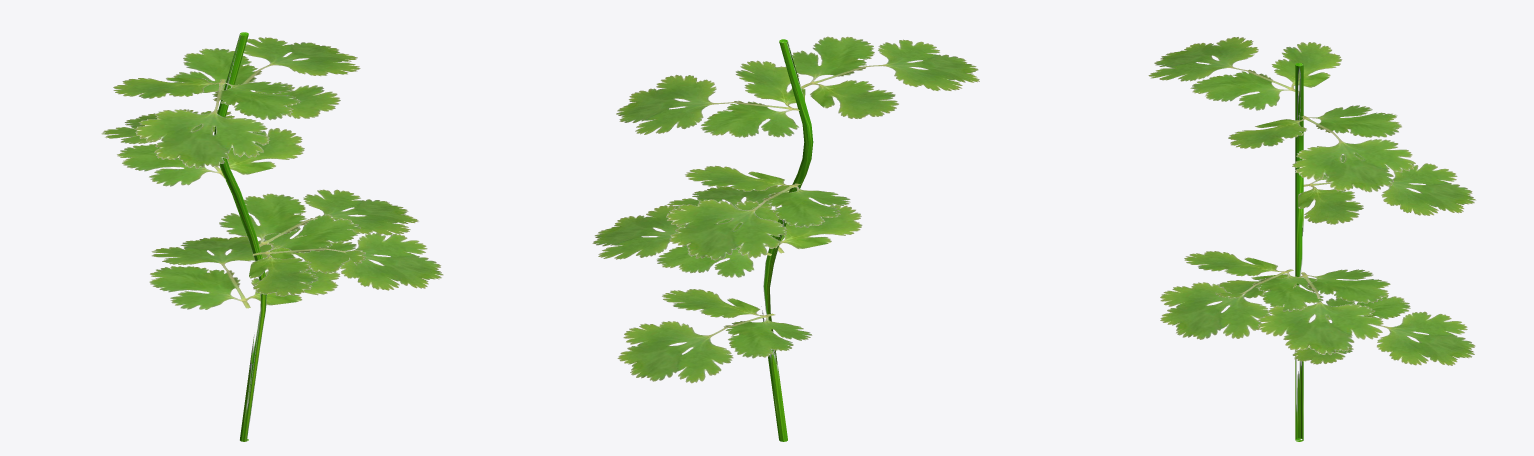
The model's file is coriander.fbx.
3 renders of one model, left to right at view 1: azimuth 30°, elevation 25°; view 2: azimuth 150°, elevation 25°; view 3: azimuth 270°, elevation 25°, orthographic. The views are drawn at different scales.
Visible parts, largest first — view 1: coriander; view 2: coriander; view 3: coriander.
Part boxes in pixels (box(x1,y1,x2,y2)): coriander: box(101, 32, 443, 441); coriander: box(592, 36, 979, 441); coriander: box(1148, 37, 1475, 441).
Size of the model in its own units: 6.67 by 5.9 by 6.32.
2 materials, 2 textured.
